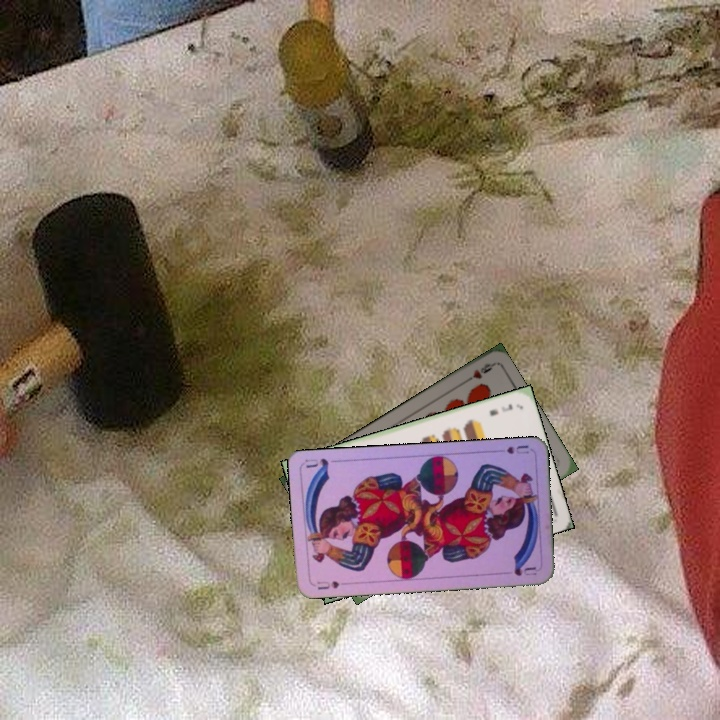E7: (485, 400, 515, 418)
H9: (459, 359, 496, 387)
SU: (491, 441, 531, 457), (310, 577, 342, 592)
